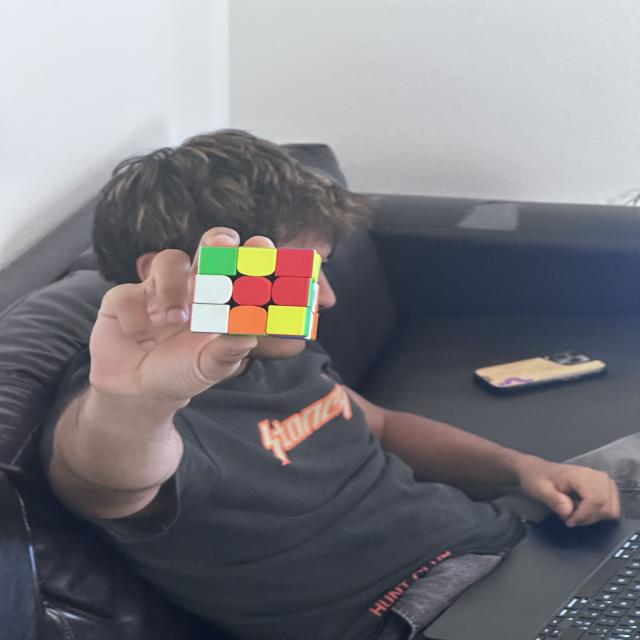sticker: (266, 304, 310, 338), (235, 245, 278, 279), (274, 247, 318, 280), (271, 275, 313, 308), (231, 275, 273, 308), (198, 245, 240, 278), (226, 304, 268, 337), (191, 274, 233, 306), (190, 302, 230, 334)
